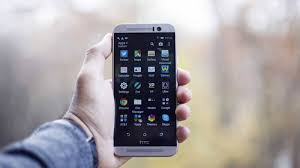htc: (107, 22, 179, 159)
